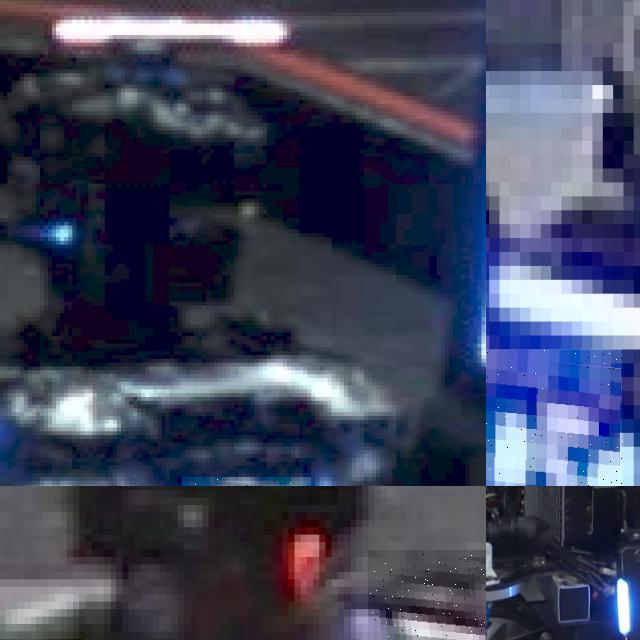B5: (486, 349, 623, 486)
R1: (368, 549, 486, 640)
